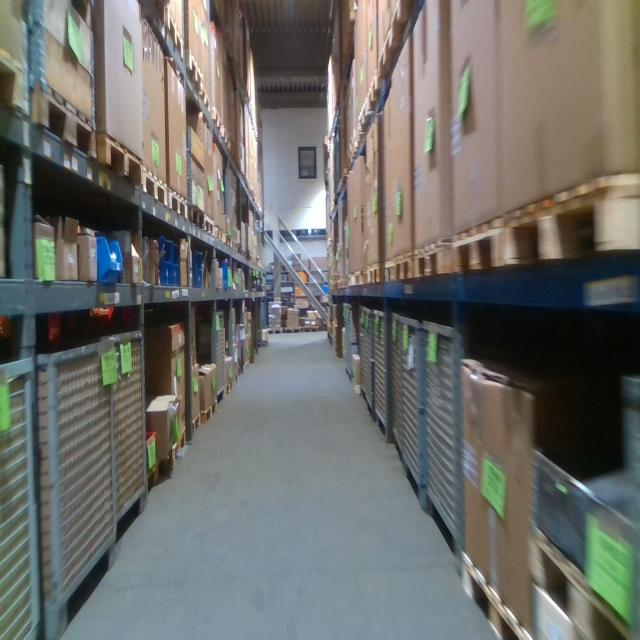pallet: (500, 180, 640, 266), (528, 518, 628, 638), (462, 548, 525, 640), (32, 78, 97, 159), (96, 130, 143, 190), (455, 214, 501, 272), (0, 43, 30, 117), (418, 239, 453, 282), (391, 1, 420, 52), (378, 28, 404, 81), (141, 167, 169, 207), (146, 449, 168, 499), (164, 8, 184, 57), (168, 426, 187, 471), (365, 67, 381, 120), (187, 48, 201, 101), (168, 189, 190, 222), (395, 254, 416, 283), (201, 398, 217, 427), (190, 204, 206, 230), (189, 408, 202, 440), (359, 97, 368, 139), (383, 260, 396, 283), (369, 262, 383, 282), (203, 214, 215, 237), (225, 378, 233, 399), (302, 325, 319, 333), (284, 327, 301, 333), (268, 328, 282, 335)
small_load_carrier: (152, 231, 171, 289), (170, 238, 181, 291), (194, 248, 203, 291), (218, 260, 229, 294)
stillage: (41, 334, 119, 636), (422, 315, 473, 581), (0, 354, 41, 639), (103, 322, 148, 568), (402, 312, 424, 510), (194, 306, 226, 410), (374, 300, 392, 446), (391, 309, 407, 470), (365, 303, 376, 416), (349, 302, 362, 387), (360, 302, 368, 399), (341, 299, 351, 371)
